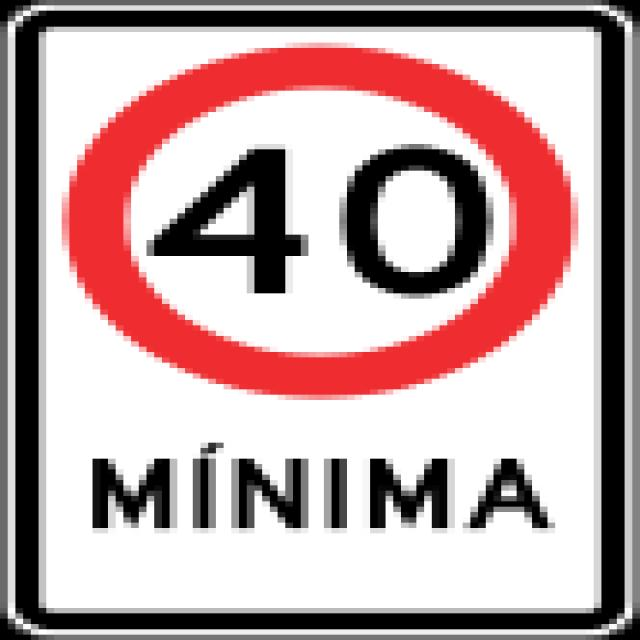Speed Limit -40-: (140, 136, 526, 308)
